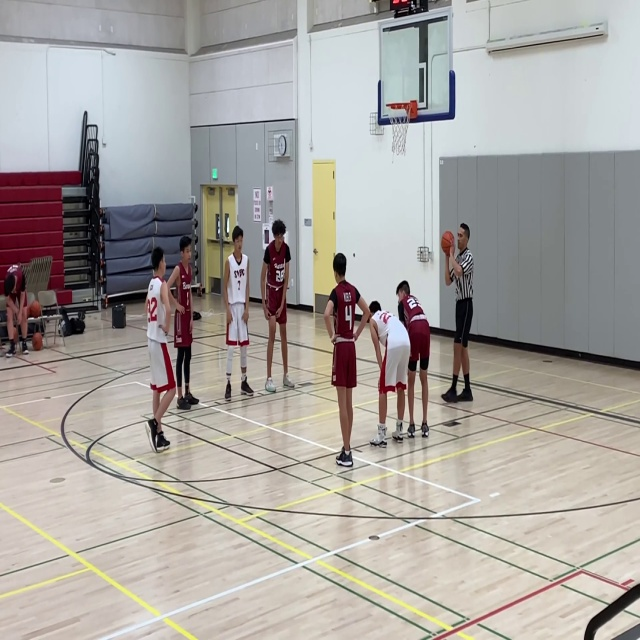Basketball: (441, 231, 454, 251), (28, 301, 41, 318), (32, 332, 43, 350)
